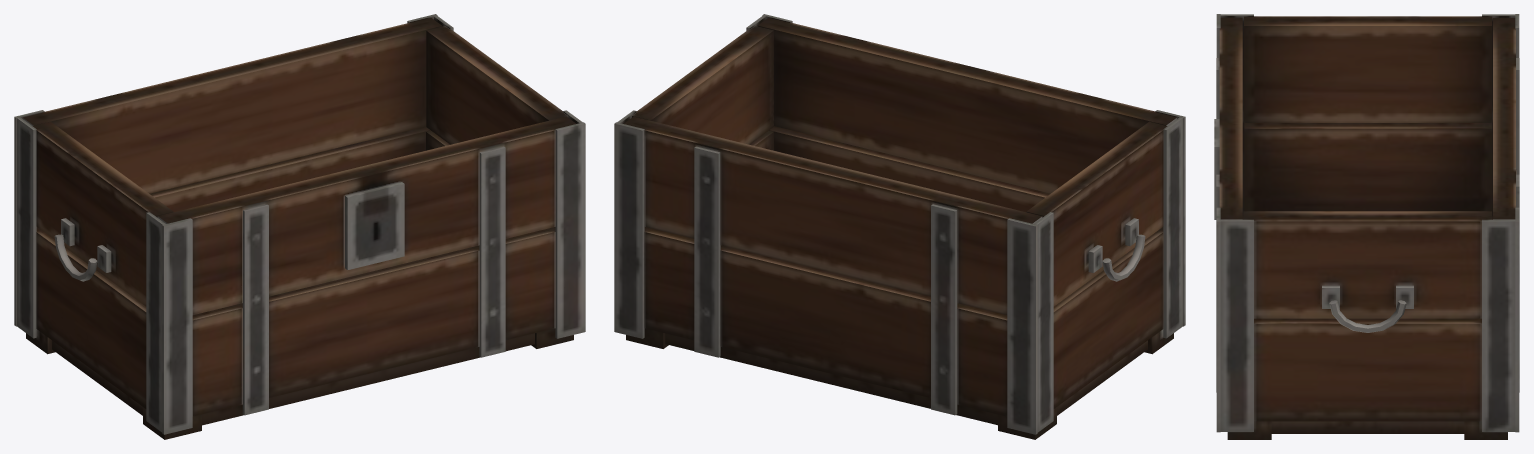
File: chest.glb
The picture shows the model from 3 angles, left to right: view 1: azimuth 30°, elevation 25°; view 2: azimuth 150°, elevation 25°; view 3: azimuth 270°, elevation 25°; orthographic projection.
Visible parts, largest first — view 1: chest; view 2: chest; view 3: chest.
Part boxes in pixels (x1=…): chest: x1=14, y1=14, x2=585, y2=439; chest: x1=614, y1=14, x2=1185, y2=439; chest: x1=1214, y1=14, x2=1519, y2=439.
Bounding box in the file's own units: 1.08 × 0.4952 × 0.6198.
Materials: 1 (1 with a texture image).
